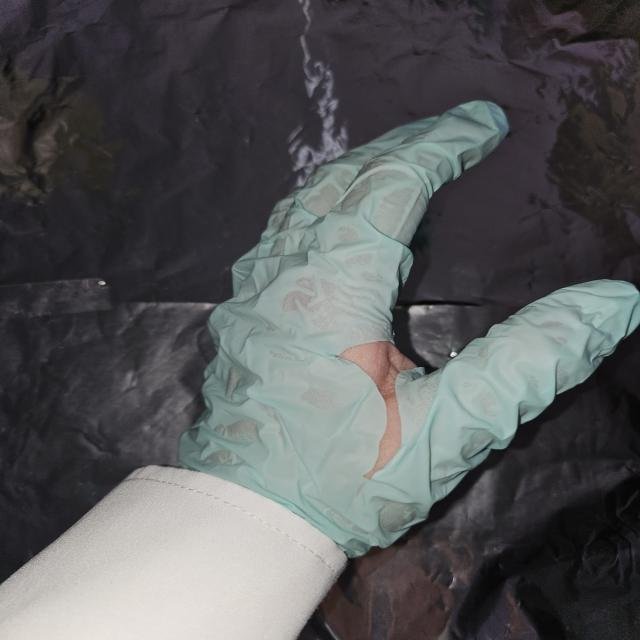gloves_damaged: (175, 99, 640, 563)
